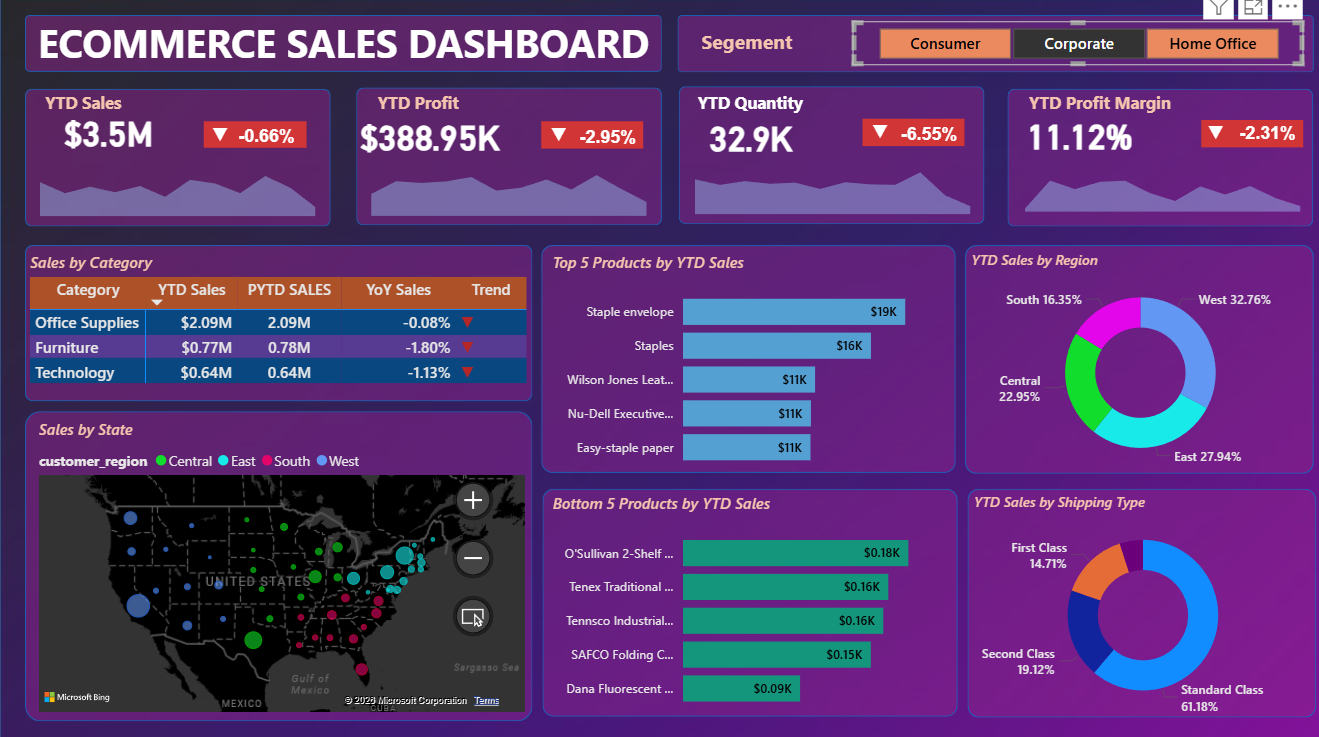

The page's visual inventory and layout, read from the dashboard file:
{"tool":"powerbi","page":{"name":"Page 1","canvas":[1280,720],"ordinal":0},"visuals":[{"type":"shape","box":[24.7,19.2,614.8,54.9],"z":0},{"type":"textbox","box":[24.7,15.1,614.8,64.5],"z":1000},{"type":"shape","box":[24.7,90.6,295,133],"z":2000},{"type":"card","fields":{"Values":["ecommerce_data.YTD SALES"]},"box":[35.7,105.7,137.2,52.1],"z":3000},{"type":"areaChart","fields":{"Category":["Calendar.Month"],"Y":["Sum(ecommerce_data.sales_per_order)"]},"box":[24.7,156.4,295,61.7],"z":4000},{"type":"shape","box":[196.6,121.9,98.9,25.3],"z":5000},{"type":"card","fields":{"Values":["ecommerce_data.YoY Sales"]},"box":[223.7,120.8,68.6,32.9],"z":6000},{"type":"card","fields":{"Values":["ecommerce_data.Sales Icon"]},"box":[194.9,122.1,34.3,26.1],"z":7000},{"type":"textbox","box":[38.4,87.8,105.7,38.4],"z":8000},{"type":"shape","box":[344.4,89.2,295,133.1],"z":9000},{"type":"shape","box":[522.8,122.1,98.8,26.1],"z":10000},{"type":"card","fields":{"Values":["ecommerce_data.YTD PROFIT"]},"box":[331.8,109.8,166.5,51.9],"z":11000},{"type":"areaChart","fields":{"Category":["Calendar.Month"],"Y":["Sum(ecommerce_data.profit_per_order)"]},"box":[344.4,148.2,295,70],"z":12000},{"type":"card","fields":{"Values":["ecommerce_data.YoY Profit"]},"box":[553,122.1,68.6,32.9],"z":13000},{"type":"card","fields":{"Values":["ecommerce_data.Profit Icon"]},"box":[522.8,122.1,34.3,26.1],"z":14000},{"type":"shape","box":[654.5,87.8,295,133.1],"z":15000},{"type":"textbox","box":[359.5,87.8,105.7,38.4],"z":16000},{"type":"shape","box":[832.9,119.4,98.8,26.1],"z":17000},{"type":"card","fields":{"Values":["ecommerce_data.YTD Qty"]},"box":[657.3,111.1,134.5,52.1],"z":18000},{"type":"areaChart","fields":{"Category":["Calendar.Month"],"Y":["Sum(ecommerce_data.order_quantity)"]},"box":[655.9,150.9,295,65.9],"z":19000},{"type":"card","fields":{"Values":["ecommerce_data.YoY Qty"]},"box":[863.1,119.4,68.6,32.9],"z":20000},{"type":"card","fields":{"Values":["ecommerce_data.Qty Icon"]},"box":[832.9,119.4,34.3,28.8],"z":21000},{"type":"textbox","box":[668.3,87.8,155.1,38.4],"z":22000},{"type":"shape","box":[972.9,90.6,295,133.1],"z":23000},{"type":"shape","box":[1159.5,120.8,98.8,26.1],"z":24000},{"type":"card","fields":{"Values":["ecommerce_data.YTD Profit Margin"]},"box":[974.3,108.4,134.5,52.1],"z":25000},{"type":"areaChart","fields":{"Category":["Calendar.Month"],"Y":["ecommerce_data.Profit Margin"]},"box":[974.3,148.2,295,65.9],"z":26000},{"type":"card","fields":{"Values":["ecommerce_data.YoY Profit Margin"]},"box":[1189.8,118.3,68.2,33.4],"z":27000},{"type":"card","fields":{"Values":["ecommerce_data.Profit Margin Icon"]},"box":[1156.4,119.7,33.4,29.2],"z":28000},{"type":"textbox","box":[988,87.8,155.1,38.4],"z":29000},{"type":"shape","box":[24.1,241.3,489.8,150.8],"z":30000},{"type":"pivotTable","title":"Sales by Category","fields":{"Rows":["ecommerce_data.category_name"],"Values":["ecommerce_data.YTD Sales","ecommerce_data.PYTD SALES","ecommerce_data.YoY Sales","ecommerce_data.Sales Icon"]},"box":[24.1,247.3,498.3,150.8],"z":31000},{"type":"shape","box":[24.7,402.1,489.9,299.1],"z":32000},{"type":"map","title":"Sales by State","fields":{"Y":["us_state_long_lat_codes.latitude"],"X":["us_state_long_lat_codes.longitude"],"Size":["ecommerce_data.YTD Sales"],"Series":["ecommerce_data.customer_region"]},"box":[32.6,409,479,288.3],"z":33000},{"type":"shape","box":[522.8,241.5,400,220],"z":34000},{"type":"shape","box":[524.2,476.2,400.7,220],"z":35000},{"type":"barChart","title":"Top 5 Products by YTD Sales","fields":{"Category":["ecommerce_data.product_name"],"Y":["ecommerce_data.YTD Sales"]},"box":[528.3,247,393.8,220.9],"z":36000},{"type":"barChart","title":"Bottom 5 Products by YTD Sales","fields":{"Category":["ecommerce_data.product_name"],"Y":["ecommerce_data.YTD Sales"]},"box":[528.3,480.3,393.8,220.9],"z":37000},{"type":"shape","box":[931.4,241.3,336.6,220.8],"z":38000},{"type":"shape","box":[933.8,476.5,336.6,220.8],"z":39000},{"type":"donutChart","title":"YTD Sales by Region","fields":{"Category":["ecommerce_data.customer_region"],"Y":["ecommerce_data.YTD Sales"]},"box":[932.6,246.1,336.6,219.6],"z":40000},{"type":"donutChart","title":"YTD Sales by Shipping Type","fields":{"Y":["ecommerce_data.YTD Sales"],"Category":["ecommerce_data.shipping_type"]},"box":[935,480.2,336.6,219.6],"z":41000},{"type":"shape","box":[653.9,19.3,614.1,55.5],"z":42000},{"type":"slicer","fields":{"Values":["ecommerce_data.customer_segment"]},"box":[822.8,25.3,435.5,42.2],"z":43000},{"type":"textbox","box":[672,27.7,106.2,38.6],"z":44000}]}

Visuals, with their boxes in screenshot pixels (x1, y1, x2, y2), scaled from the page's 1280x720 canvas onto the 1319x737 screenshot:
shape: [x1=25, y1=20, x2=659, y2=76]
textbox: [x1=25, y1=15, x2=659, y2=81]
shape: [x1=25, y1=93, x2=329, y2=229]
card - ecommerce_data.YTD SALES: [x1=37, y1=108, x2=178, y2=162]
areaChart - Calendar.Month x Sum(ecommerce_data.sales_per_order): [x1=25, y1=160, x2=329, y2=223]
shape: [x1=203, y1=125, x2=305, y2=151]
card - ecommerce_data.YoY Sales: [x1=231, y1=124, x2=301, y2=157]
card - ecommerce_data.Sales Icon: [x1=201, y1=125, x2=236, y2=152]
textbox: [x1=40, y1=90, x2=148, y2=129]
shape: [x1=355, y1=91, x2=659, y2=228]
shape: [x1=539, y1=125, x2=641, y2=152]
card - ecommerce_data.YTD PROFIT: [x1=342, y1=112, x2=513, y2=166]
areaChart - Calendar.Month x Sum(ecommerce_data.profit_per_order): [x1=355, y1=152, x2=659, y2=223]
card - ecommerce_data.YoY Profit: [x1=570, y1=125, x2=641, y2=159]
card - ecommerce_data.Profit Icon: [x1=539, y1=125, x2=574, y2=152]
shape: [x1=674, y1=90, x2=978, y2=226]
textbox: [x1=370, y1=90, x2=479, y2=129]
shape: [x1=858, y1=122, x2=960, y2=149]
card - ecommerce_data.YTD Qty: [x1=677, y1=114, x2=816, y2=167]
areaChart - Calendar.Month x Sum(ecommerce_data.order_quantity): [x1=676, y1=154, x2=980, y2=222]
card - ecommerce_data.YoY Qty: [x1=889, y1=122, x2=960, y2=156]
card - ecommerce_data.Qty Icon: [x1=858, y1=122, x2=894, y2=152]
textbox: [x1=689, y1=90, x2=848, y2=129]
shape: [x1=1003, y1=93, x2=1307, y2=229]
shape: [x1=1195, y1=124, x2=1297, y2=150]
card - ecommerce_data.YTD Profit Margin: [x1=1004, y1=111, x2=1143, y2=164]
areaChart - Calendar.Month x ecommerce_data.Profit Margin: [x1=1004, y1=152, x2=1308, y2=219]
card - ecommerce_data.YoY Profit Margin: [x1=1226, y1=121, x2=1296, y2=155]
card - ecommerce_data.Profit Margin Icon: [x1=1192, y1=123, x2=1226, y2=152]
textbox: [x1=1018, y1=90, x2=1178, y2=129]
shape: [x1=25, y1=247, x2=530, y2=401]
"Sales by Category" pivotTable: [x1=25, y1=253, x2=538, y2=407]
shape: [x1=25, y1=412, x2=530, y2=718]
"Sales by State" map: [x1=34, y1=419, x2=527, y2=714]
shape: [x1=539, y1=247, x2=951, y2=472]
shape: [x1=540, y1=487, x2=953, y2=713]
"Top 5 Products by YTD Sales" barChart: [x1=544, y1=253, x2=950, y2=479]
"Bottom 5 Products by YTD Sales" barChart: [x1=544, y1=492, x2=950, y2=718]
shape: [x1=960, y1=247, x2=1307, y2=473]
shape: [x1=962, y1=488, x2=1309, y2=714]
"YTD Sales by Region" donutChart: [x1=961, y1=252, x2=1308, y2=477]
"YTD Sales by Shipping Type" donutChart: [x1=963, y1=492, x2=1310, y2=716]
shape: [x1=674, y1=20, x2=1307, y2=77]
slicer - ecommerce_data.customer_segment: [x1=848, y1=26, x2=1297, y2=69]
textbox: [x1=692, y1=28, x2=802, y2=68]
